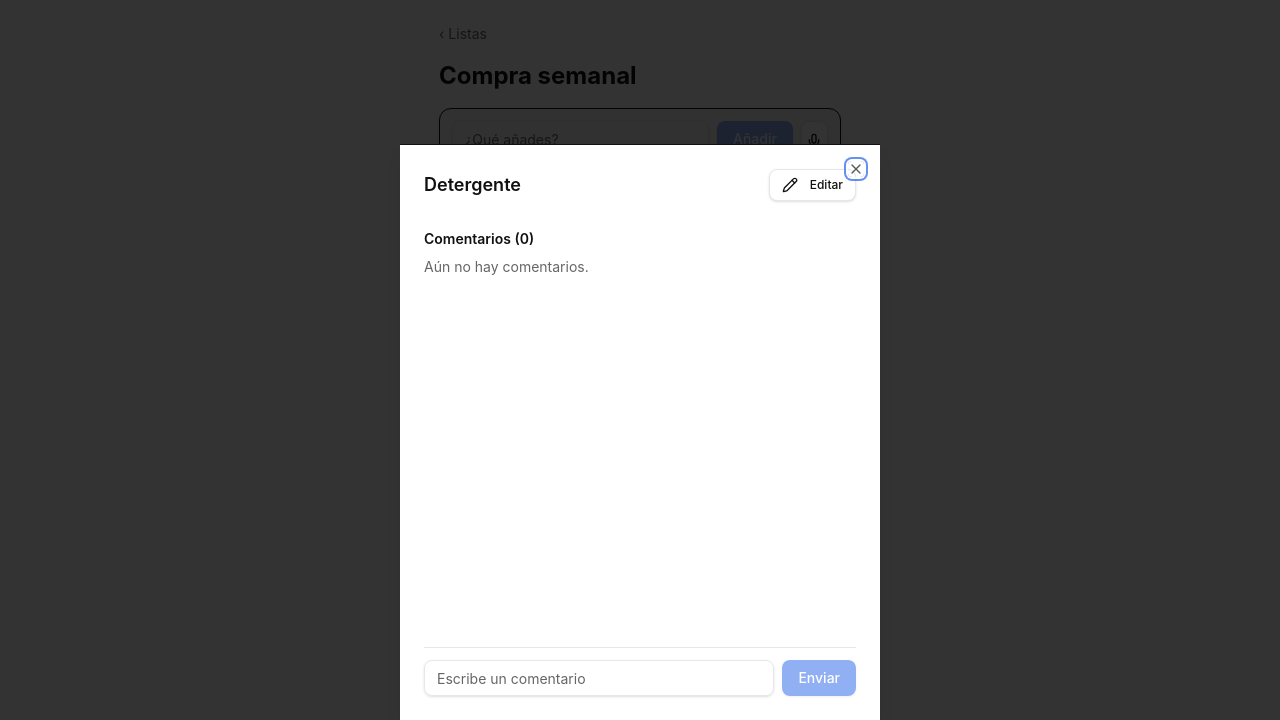
Test: ShoppingListDetailView — editar ítem › no deja guardar con el nombre vacío
The width and height of the screenshot is (1280, 720).
Click the button with aria-label "editar detergente" at (812, 185), box [769,169,856,201]
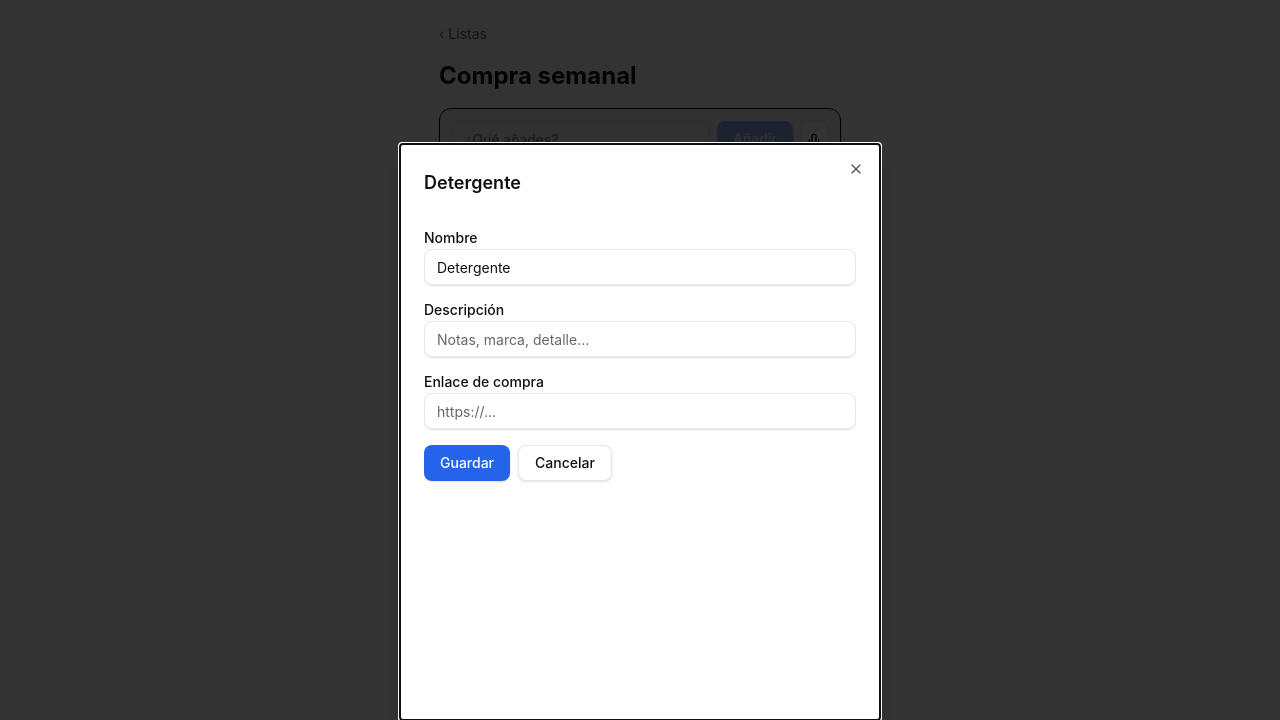
Clear the field named "nombre del artículo a editar" at (640, 267), box [424,249,856,285]
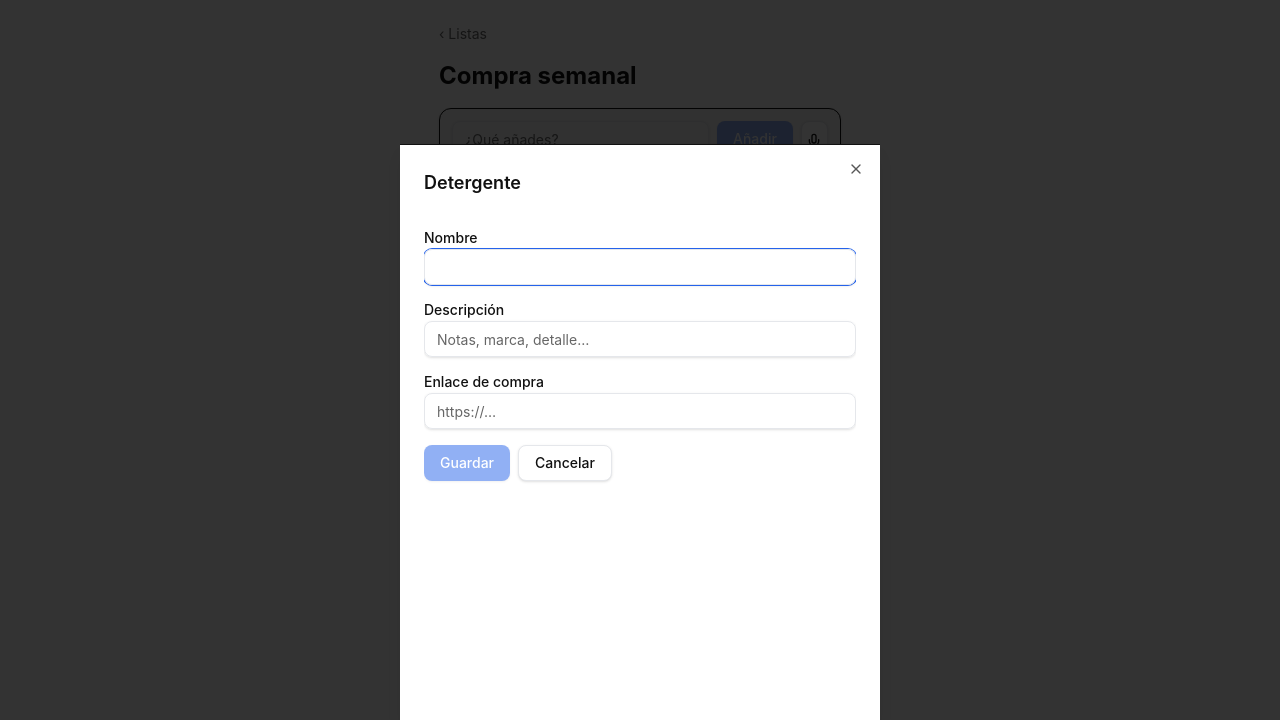
Expected: the button "Guardar" is disabled, [424,445,510,481]
